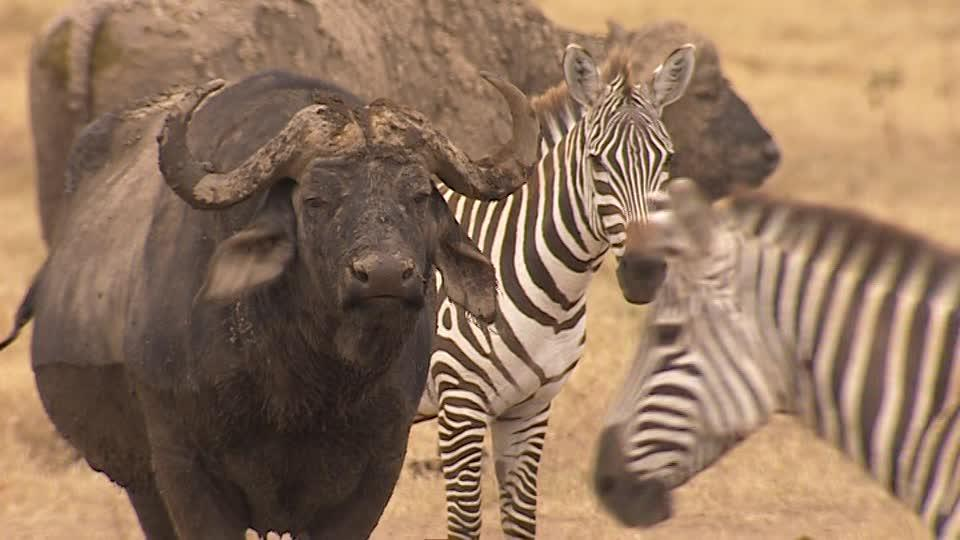Buffalo: (146, 13, 460, 452)
